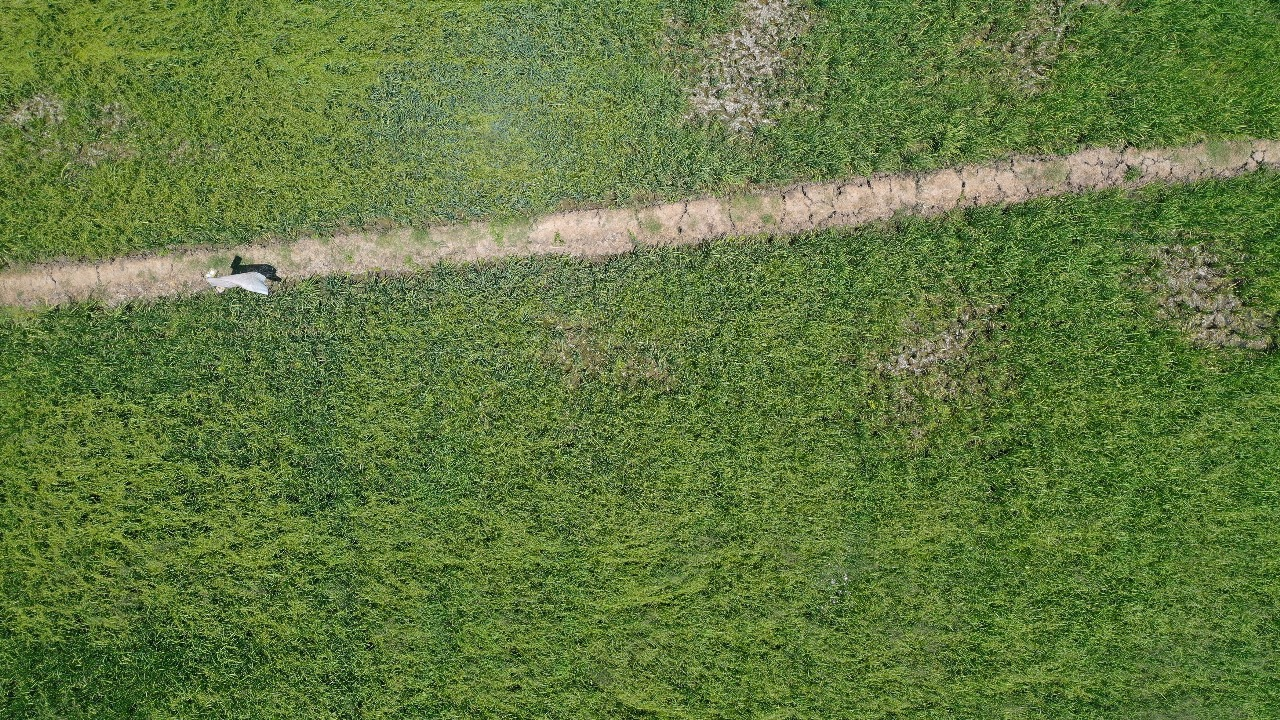irigration: (1, 168, 873, 325), (865, 109, 1280, 225)
